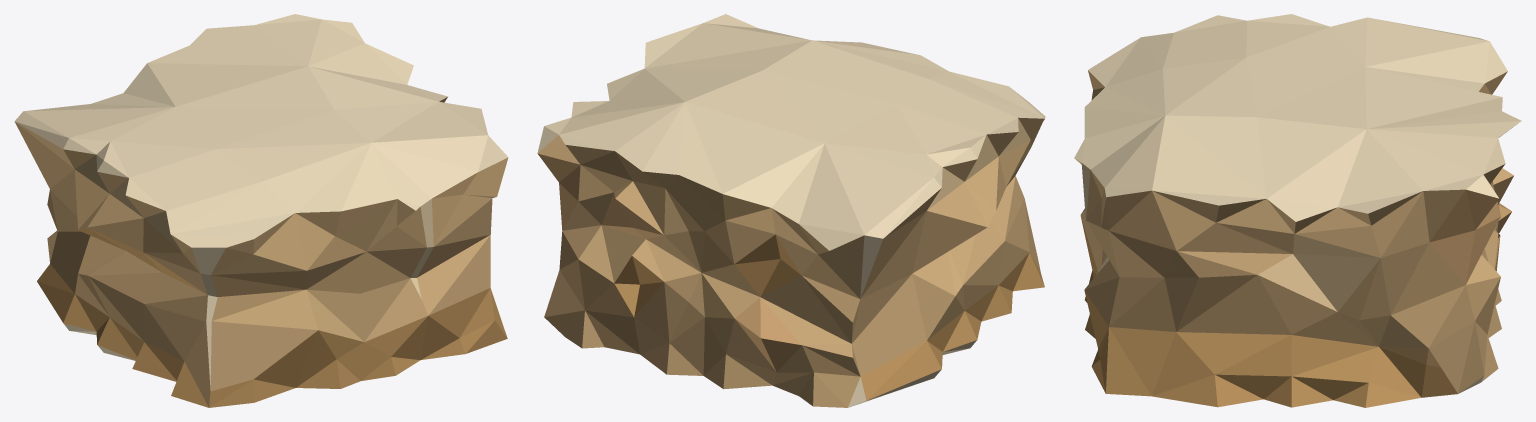
The model's file is EA_M_HayBale_Square_Dry_01a.fbx.
3 views of the same model, side by side, from view 1: azimuth 30°, elevation 25°; view 2: azimuth 150°, elevation 25°; view 3: azimuth 270°, elevation 25° (orthographic). The views are drawn at different scales.
Visible parts, largest first — view 1: EA_M_HayBale_Square_Dry_01a_LOD0; view 2: EA_M_HayBale_Square_Dry_01a_LOD0; view 3: EA_M_HayBale_Square_Dry_01a_LOD0.
Boxes of the visible parts, box(x1,y1,x2,y2) form: EA_M_HayBale_Square_Dry_01a_LOD0: box(14, 14, 508, 407); EA_M_HayBale_Square_Dry_01a_LOD0: box(537, 14, 1045, 407); EA_M_HayBale_Square_Dry_01a_LOD0: box(1074, 14, 1521, 407).
Size of what is drawn, in the model's own units: 1.43 by 0.8093 by 1.39.
